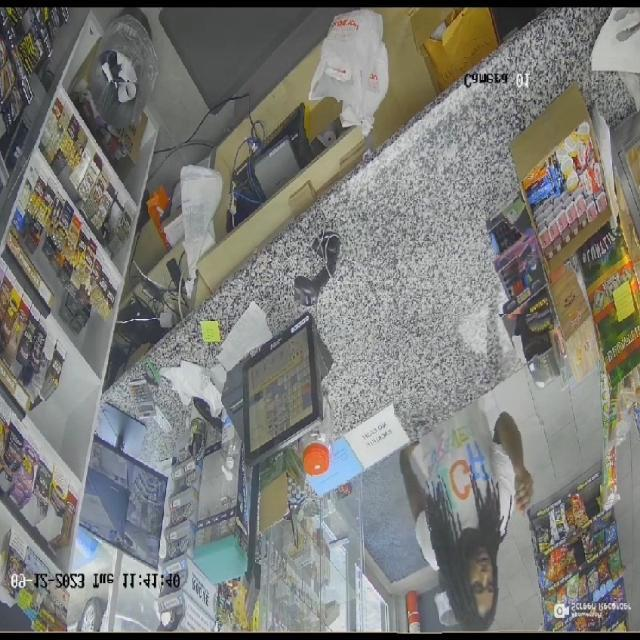normal: (394, 314, 544, 634)
